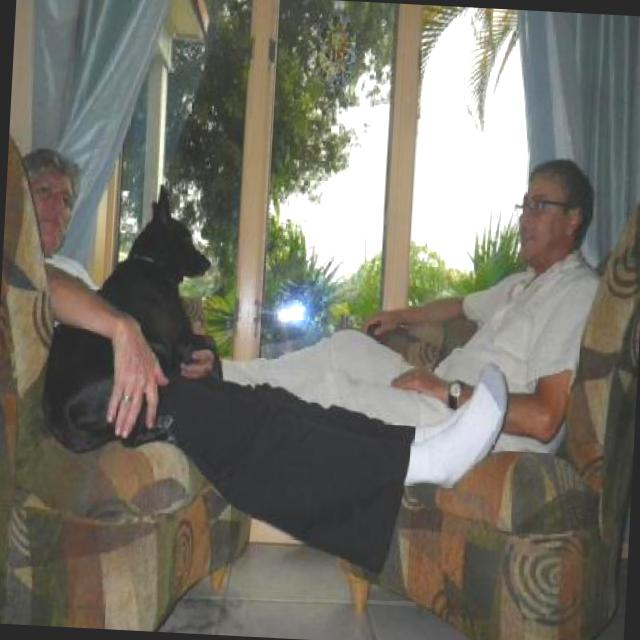Person: (1, 151, 519, 584), (218, 146, 609, 462)
